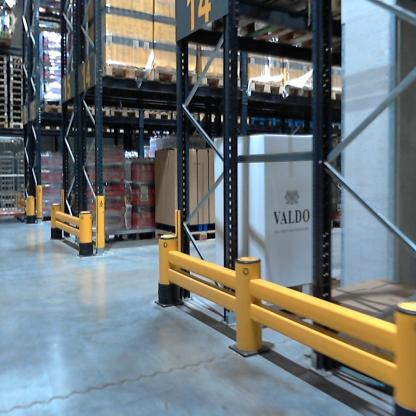pallet: (202, 0, 359, 43), (222, 270, 341, 322), (155, 222, 227, 255), (101, 62, 158, 85), (154, 65, 198, 93), (246, 72, 282, 103), (199, 71, 246, 91), (39, 100, 83, 119), (323, 82, 356, 104), (111, 102, 141, 126), (142, 106, 174, 128), (281, 86, 321, 103), (174, 106, 200, 128), (83, 100, 113, 119), (198, 109, 227, 128), (145, 126, 179, 140), (114, 121, 146, 135), (227, 112, 250, 129), (297, 115, 320, 129), (251, 113, 273, 127), (80, 125, 107, 135), (273, 116, 297, 127), (39, 123, 62, 134), (8, 54, 23, 64), (9, 68, 26, 76), (10, 93, 23, 101), (10, 119, 24, 126), (10, 86, 26, 92), (8, 123, 23, 129), (10, 112, 22, 119), (10, 105, 22, 112), (11, 76, 26, 81), (11, 81, 25, 86), (0, 61, 8, 69), (9, 64, 23, 68), (10, 101, 23, 105), (0, 91, 7, 98), (0, 98, 7, 105), (1, 116, 7, 123), (1, 51, 5, 61), (1, 74, 7, 80), (1, 80, 7, 86), (1, 69, 7, 74), (1, 86, 7, 91), (2, 105, 7, 111), (1, 111, 7, 116), (1, 123, 7, 128)
